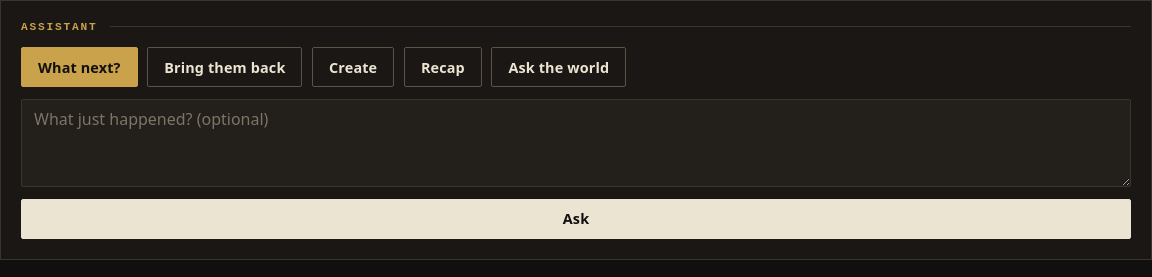
Test: AssistantPanel › writes a recap from the log without any input
Click the button with test id "job-recap": click(443, 67) left=404, top=47, right=482, bottom=87
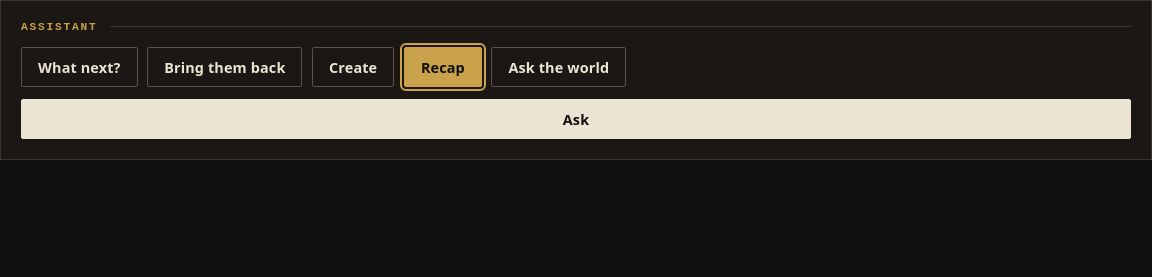
Check: the text box with test id "job-text" is gone
Click the button with test id "ai-ask": click(576, 119) left=21, top=99, right=1131, bottom=139
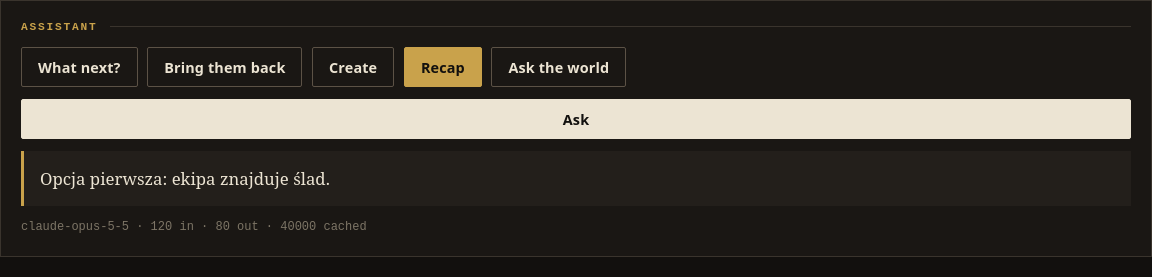
Check: the text "Opcja pierwsza: ekipa znajduje ślad." is shown, box left=21, top=151, right=1131, bottom=206
